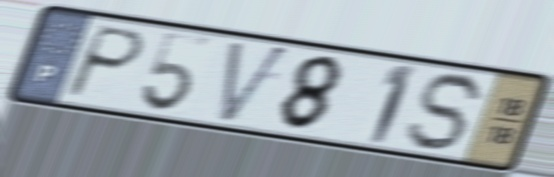1: (370, 62, 421, 148)
5: (138, 28, 223, 116)
8: (273, 53, 348, 134)
P: (59, 22, 150, 101)
S: (401, 70, 493, 154)
V: (216, 38, 295, 128)
